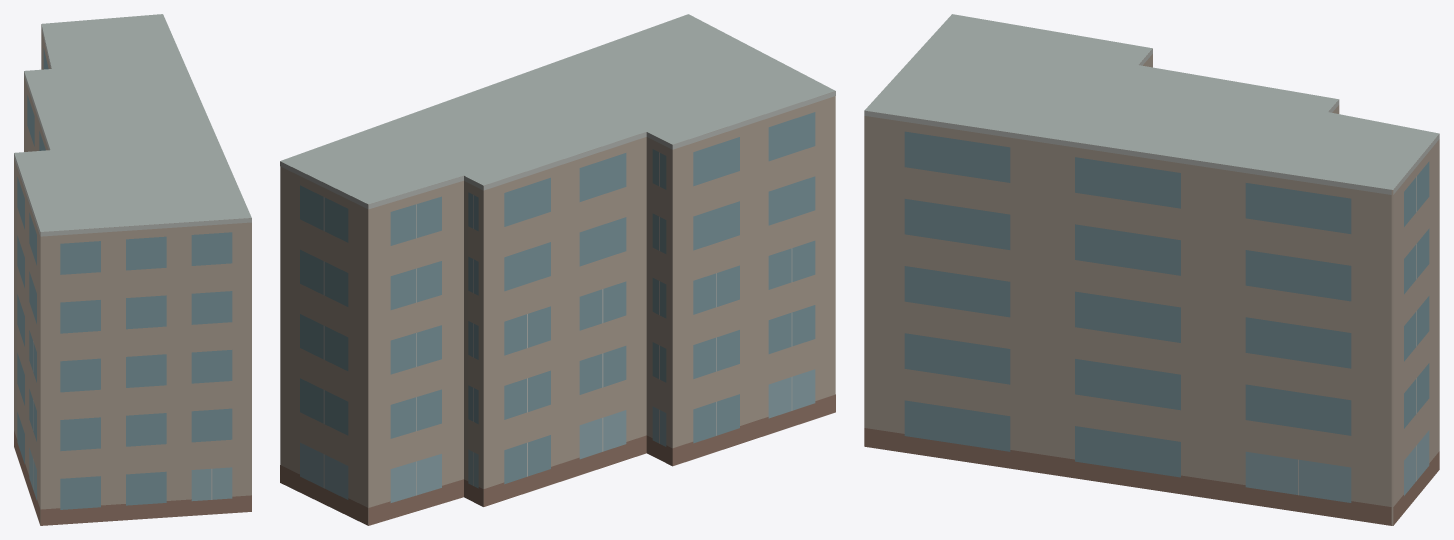
File: survey-upis-32512736.glb
3 renders of one model, left to right at view 1: azimuth 30°, elevation 25°; view 2: azimuth 150°, elevation 25°; view 3: azimuth 270°, elevation 25°, orthographic. The views are drawn at different scales.
Parts seen in each view (by area): view 1: survey-upis-32512736.tmp; view 2: survey-upis-32512736.tmp; view 3: survey-upis-32512736.tmp.
Boxes of the visible parts, x1=… form: survey-upis-32512736.tmp: x1=14, y1=14, x2=251, y2=525; survey-upis-32512736.tmp: x1=280, y1=14, x2=835, y2=525; survey-upis-32512736.tmp: x1=864, y1=14, x2=1439, y2=525.
Size of the model in its own units: 17.57 by 15.65 by 24.29.
